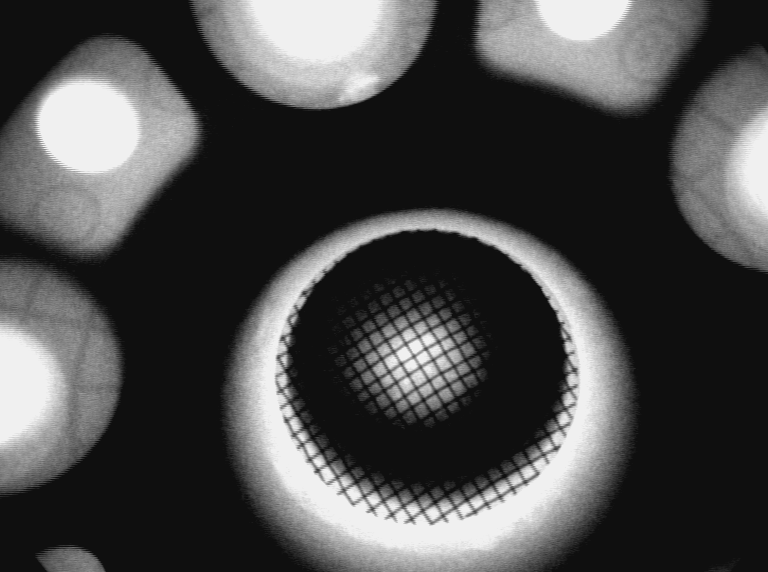defect: (338, 67, 388, 108)
